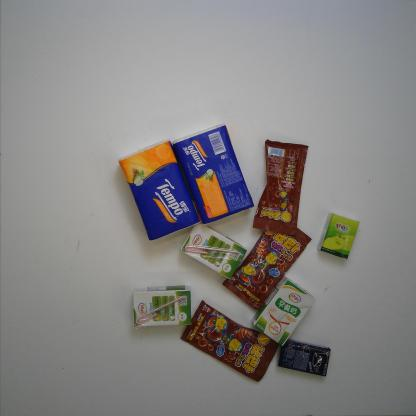Candy: (179, 298, 280, 382), (221, 226, 314, 311), (252, 138, 309, 236)
Gum: (276, 338, 331, 378)
Milk: (250, 274, 316, 348), (180, 223, 248, 281), (131, 284, 193, 328)
Tissue: (117, 138, 202, 242), (172, 122, 256, 226), (316, 212, 361, 261)
